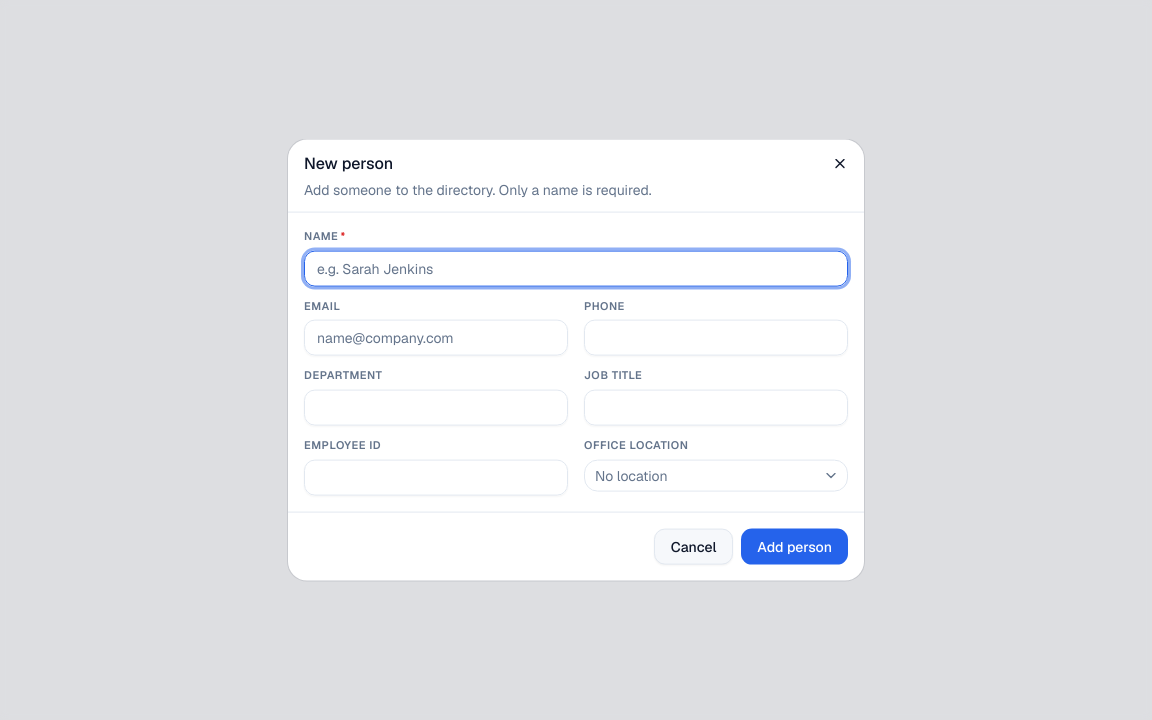
PersonFormDialog — create (AC-1) › blocks submit and shows an inline error when the name is empty
Click the button "Add person": (795, 546) [741,528,848,564]
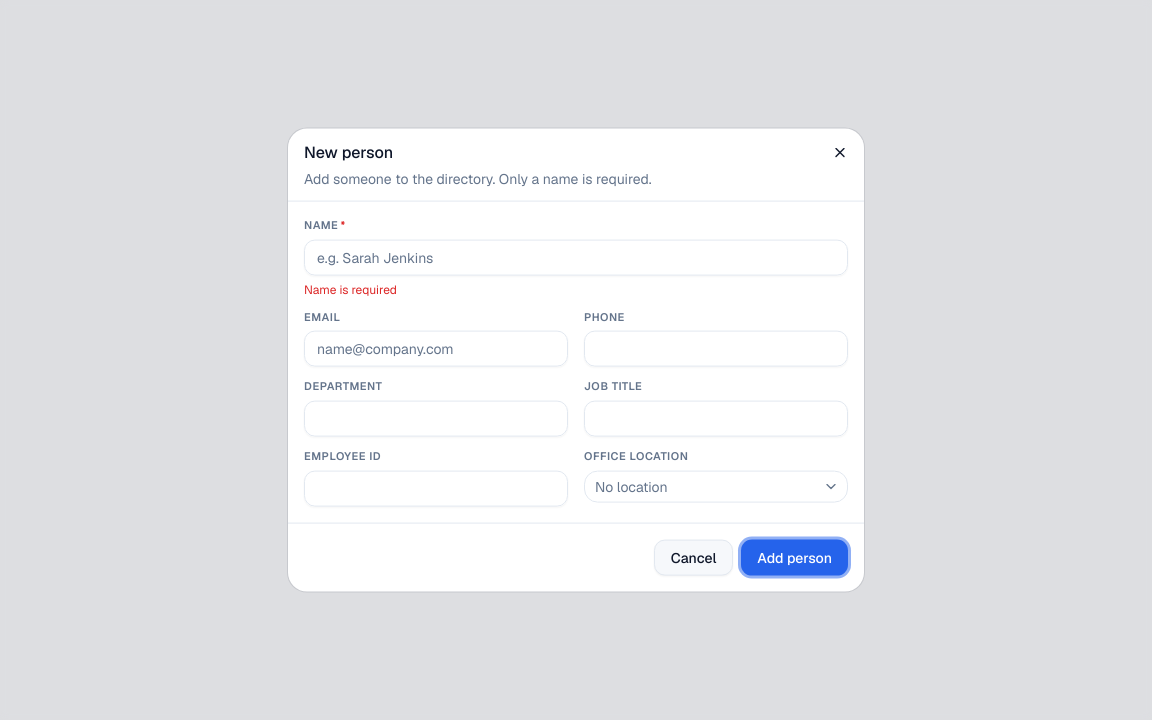
Result: the text "Name is required" is shown at [304,281,397,297]
